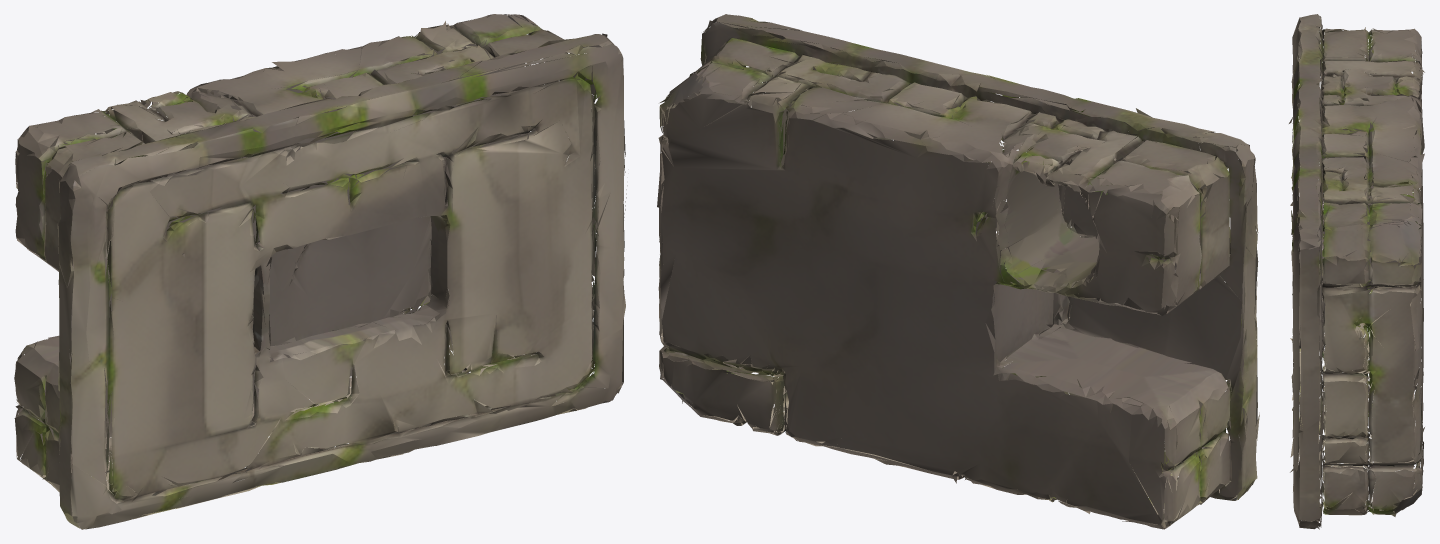
Rendered from Lab_WallStraight.glb.
The picture shows the model from 3 angles, left to right: view 1: azimuth 30°, elevation 25°; view 2: azimuth 150°, elevation 25°; view 3: azimuth 270°, elevation 25°; orthographic projection. The views are drawn at different scales.
Visible parts, largest first — view 1: Lab_WallStraight; view 2: Lab_WallStraight; view 3: Lab_WallStraight.
Boxes of the visible parts, x1,y1,x2,y2 form: Lab_WallStraight: [14, 14, 627, 529]; Lab_WallStraight: [657, 14, 1259, 529]; Lab_WallStraight: [1289, 14, 1424, 529].
Bounding box in the file's own units: 4.52 × 2.85 × 1.16.
1 material, 1 textured.
